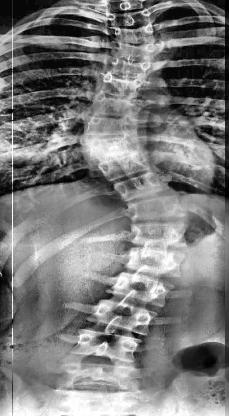Vertebrae: (57, 358, 143, 390), (75, 326, 146, 362), (109, 271, 175, 307), (93, 300, 155, 338), (124, 246, 182, 280), (128, 221, 190, 250), (129, 198, 188, 226), (113, 174, 169, 202), (94, 153, 152, 179), (88, 115, 142, 140), (85, 136, 146, 158), (111, 56, 155, 84), (92, 92, 139, 118), (104, 77, 142, 101), (108, 6, 156, 24), (119, 41, 159, 61), (119, 21, 155, 41)
